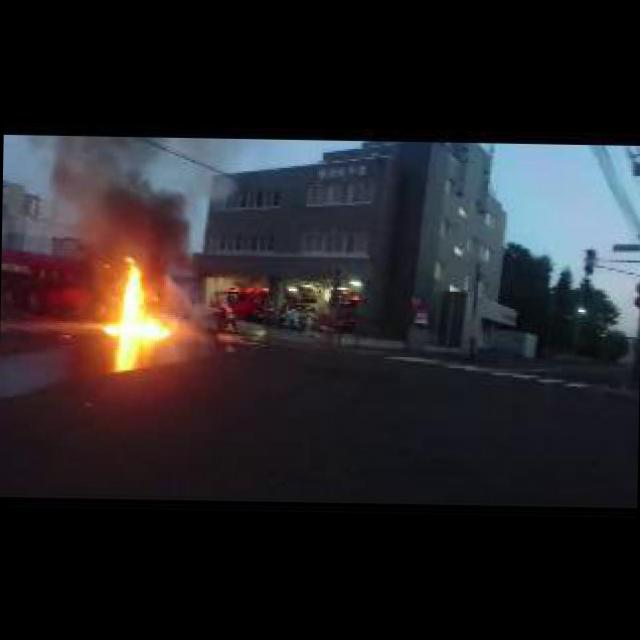fire: (104, 255, 170, 337)
smoke: (48, 134, 204, 269)
